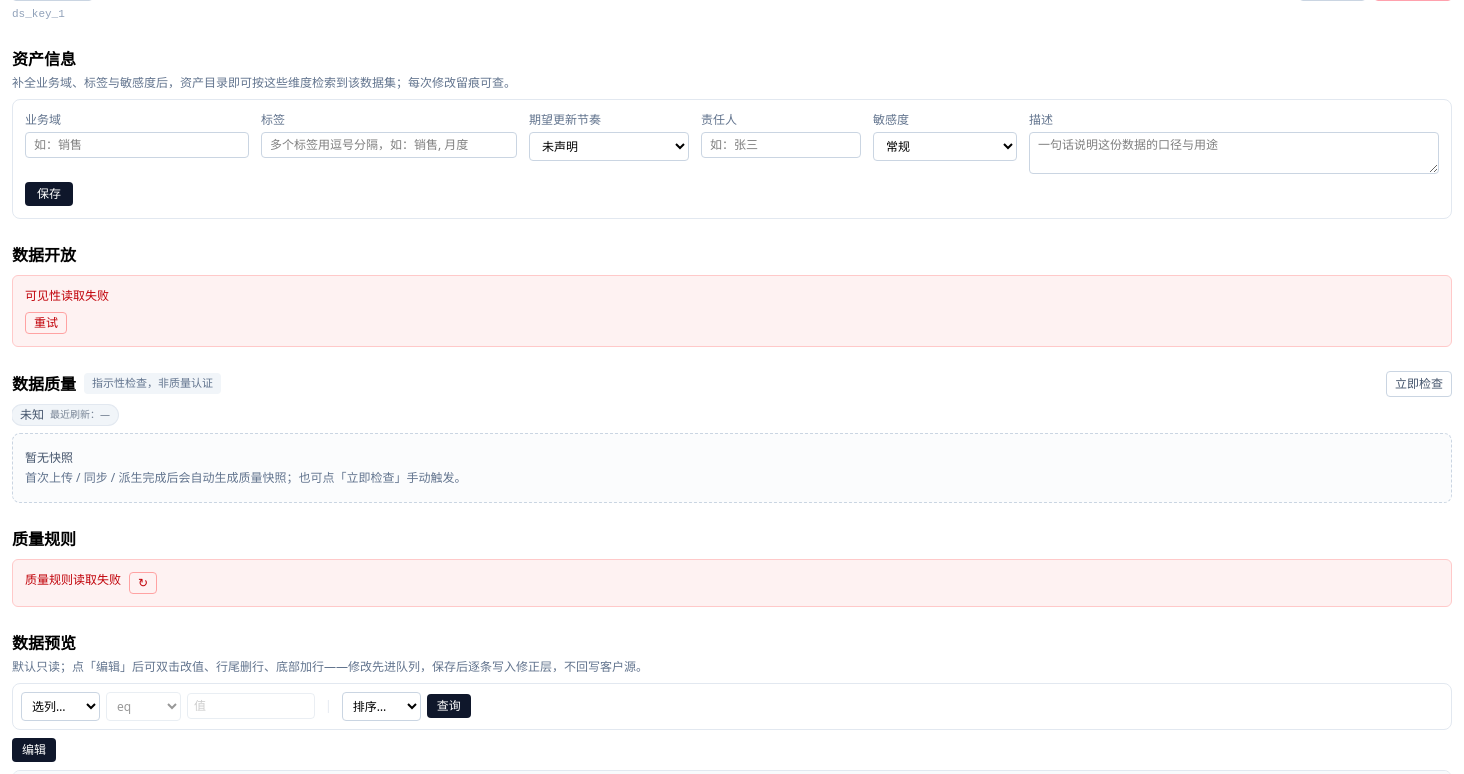
Scenario: DatasetDetail 行内编辑器：保存顺序与失败隔离（任务 2.2） › 保存成功后刷新行预览与修正历史（mock 两个 fetch），脏队列清空
Click the button with test id "preview-edit-toggle": click(34, 750) left=12, top=738, right=56, bottom=762
(page scrolled)
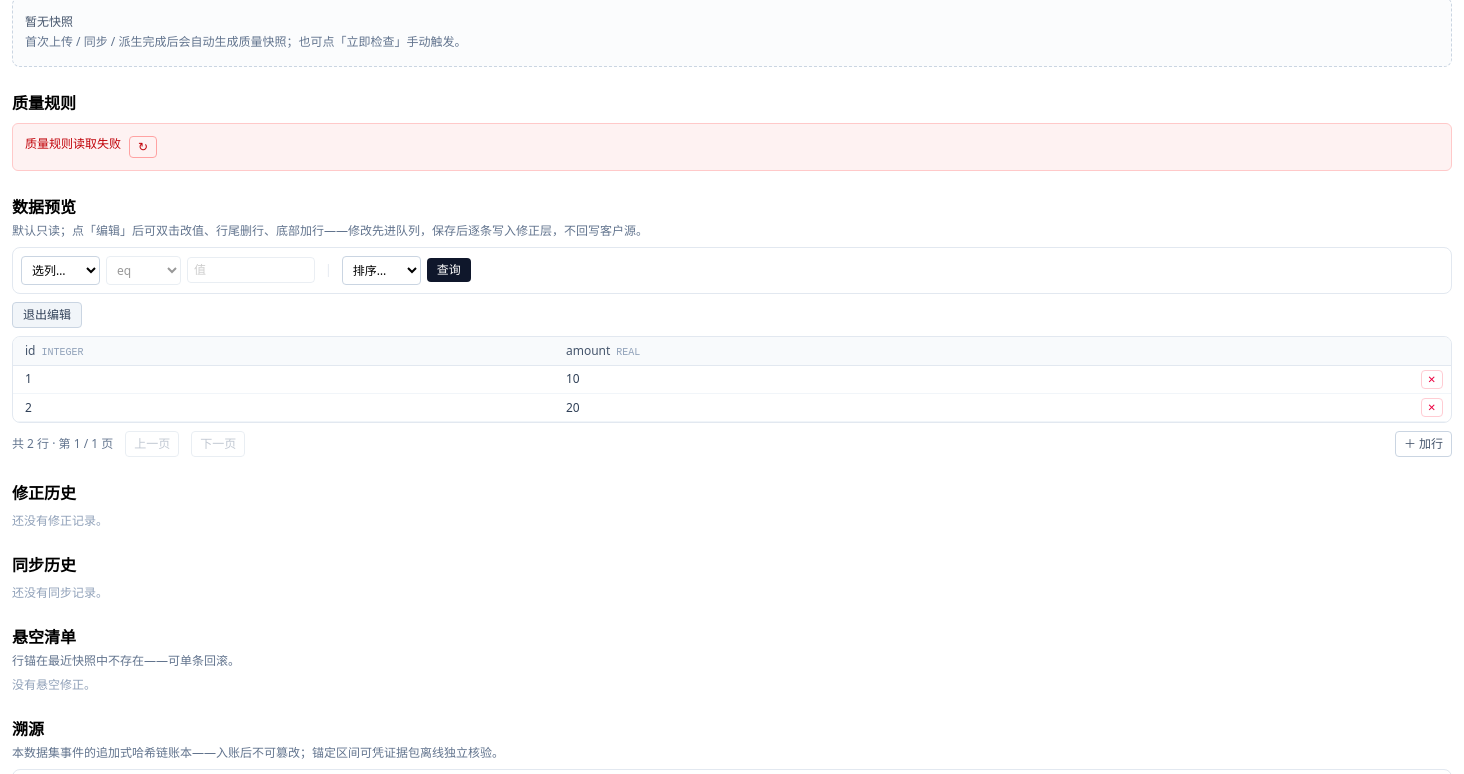
Double-click the cell with test id "preview-cell" showing "10": (877, 379) left=554, top=365, right=1199, bottom=394
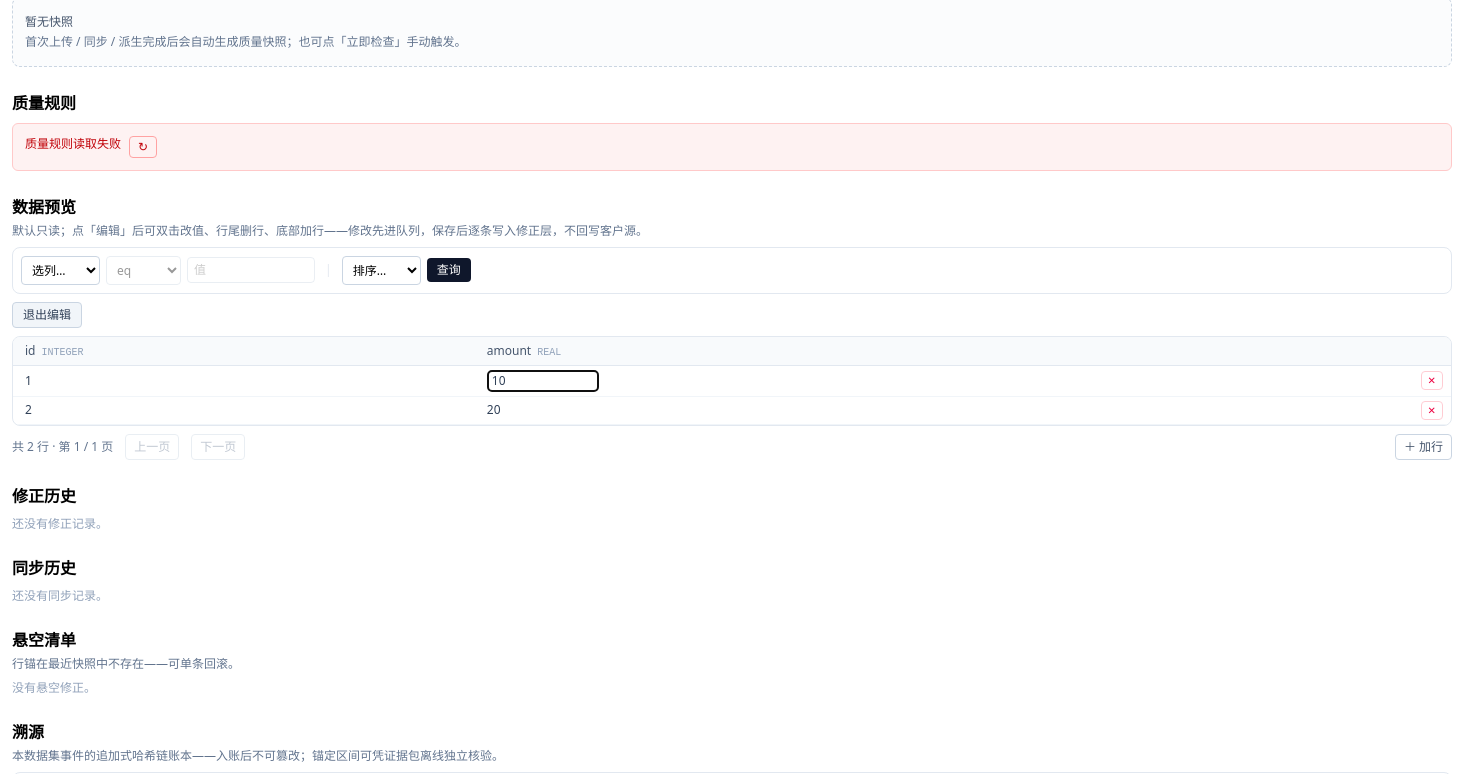
Replace the text in the field with test id "preview-edit-input" with "42": (543, 381) left=487, top=370, right=599, bottom=392
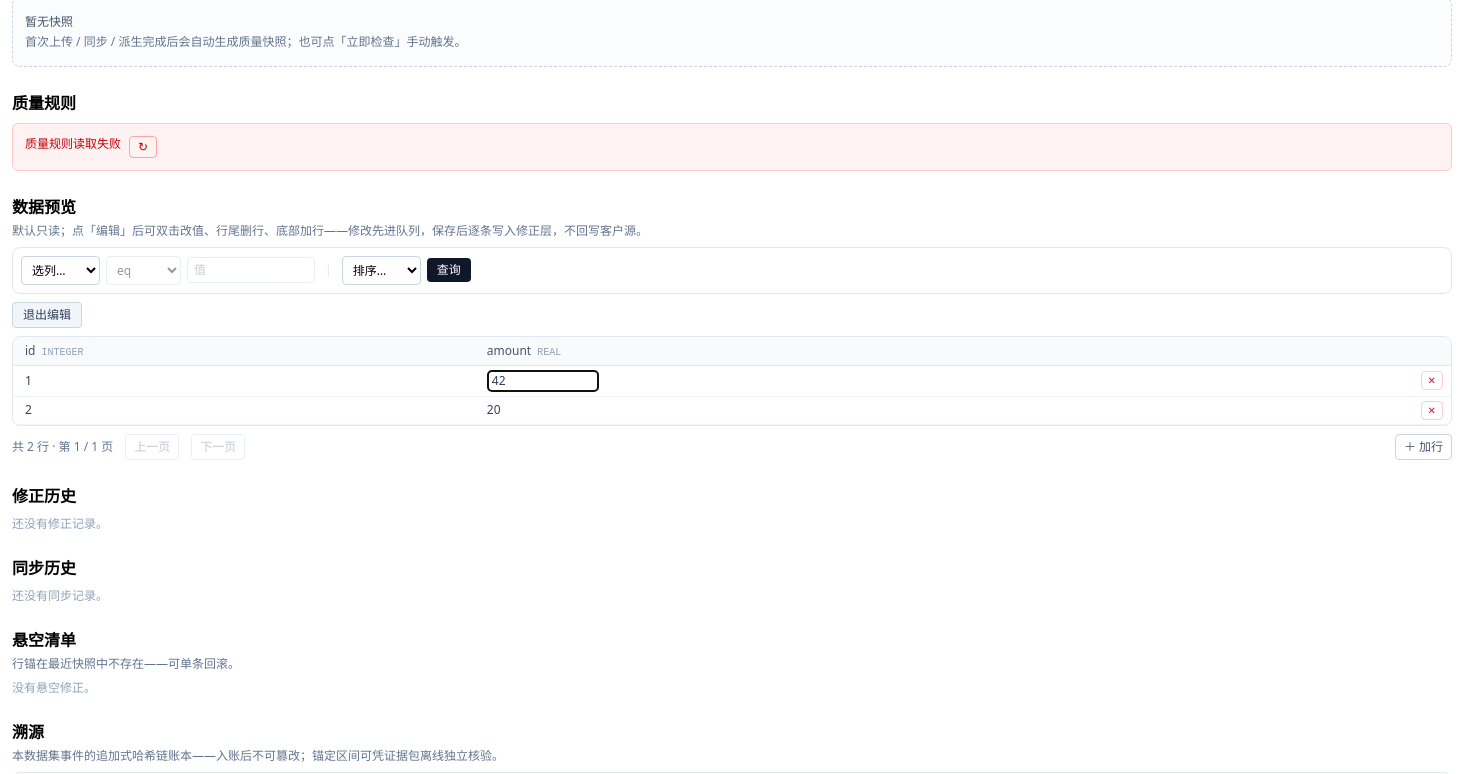
Press Enter in the field with test id "preview-edit-input", box left=487, top=370, right=599, bottom=392
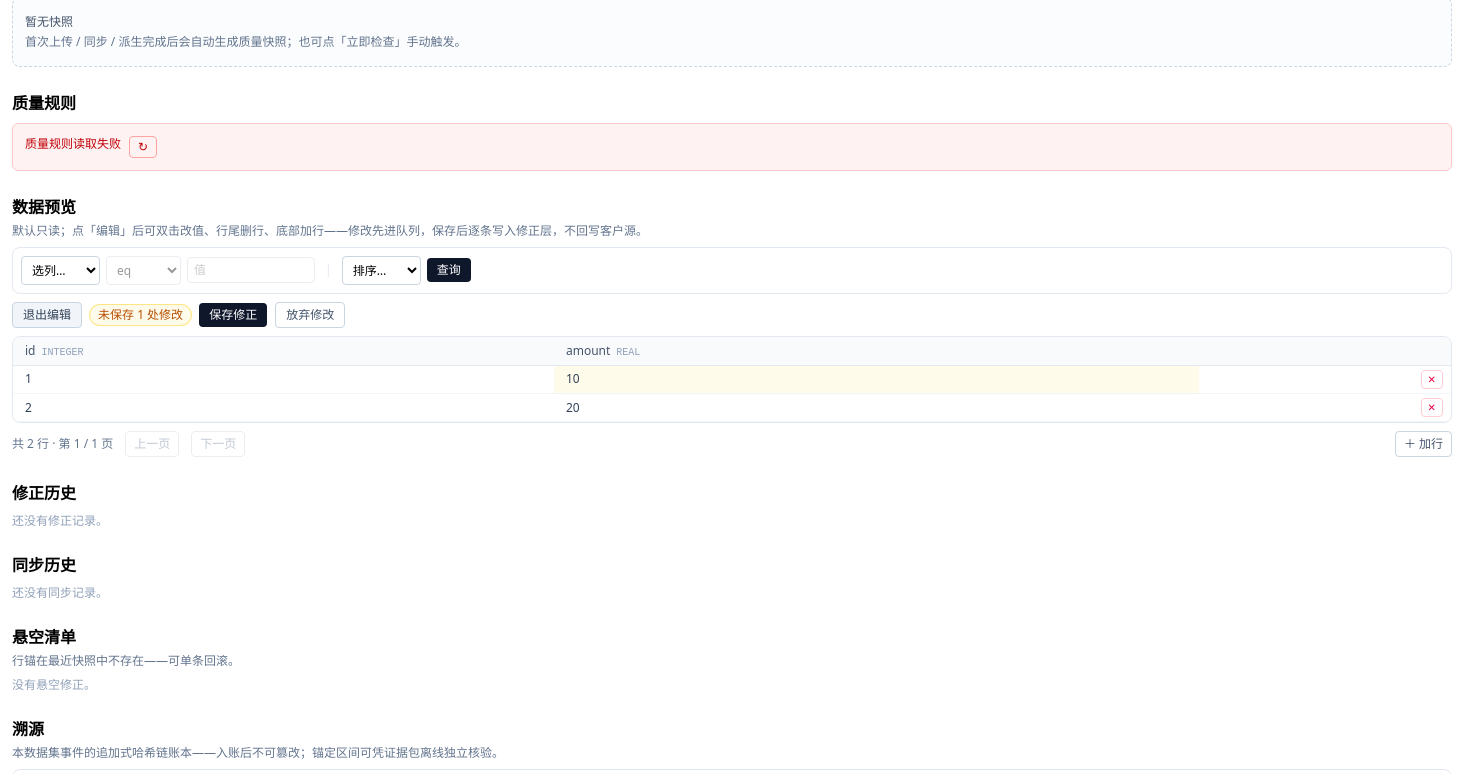
Click the button with test id "preview-queue-save": click(233, 314) left=199, top=302, right=267, bottom=326
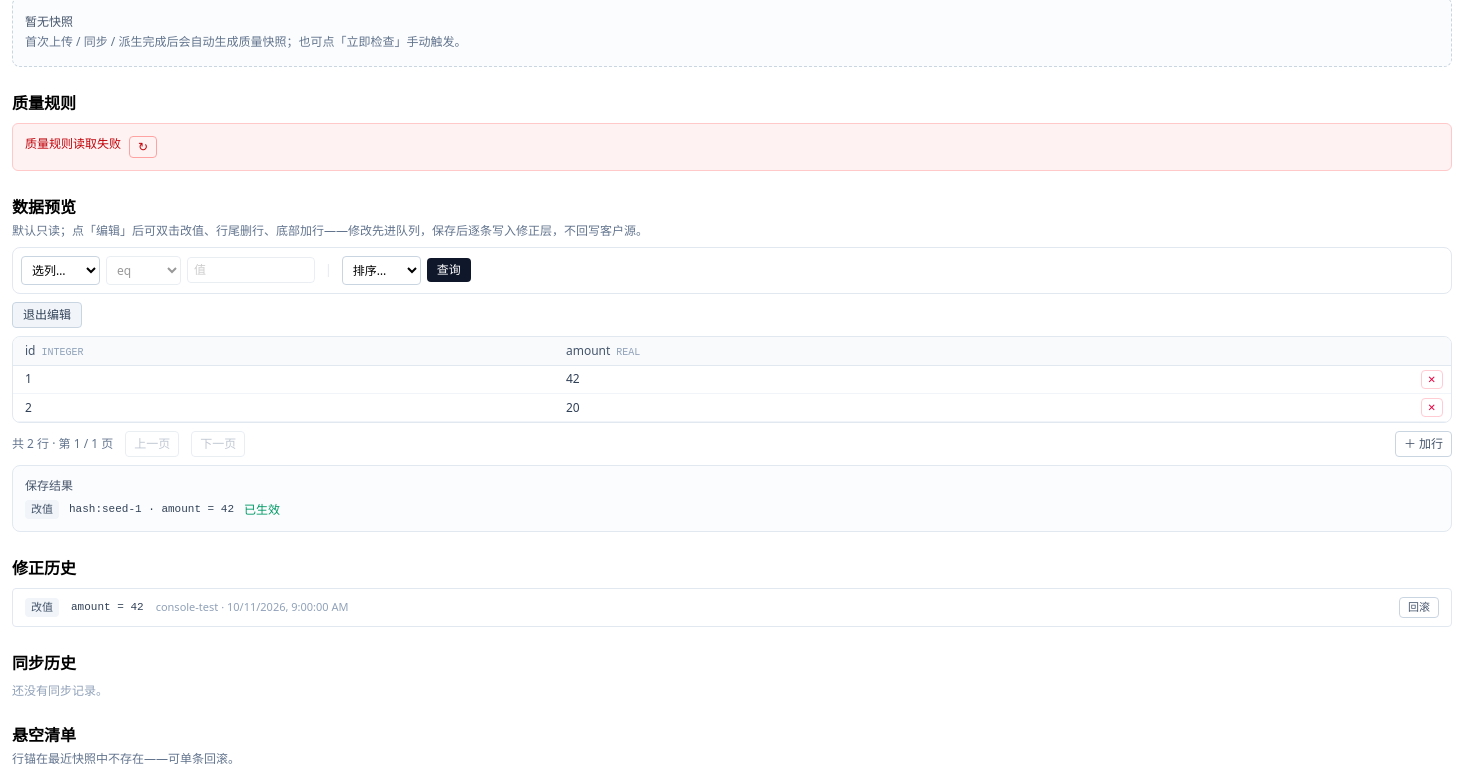
Expected: the cell with test id "preview-cell" reads "42", left=566, top=370, right=580, bottom=388
Expected: the number of list items with test id "correction-row" is 1, left=12, top=588, right=1452, bottom=627
Expected: the text with test id "preview-dirty-badge" is gone
